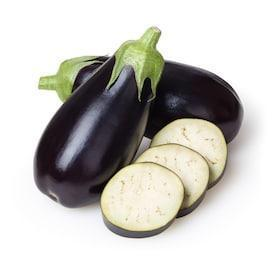eggplant: (34, 27, 164, 207), (144, 61, 242, 142), (39, 55, 108, 101)
